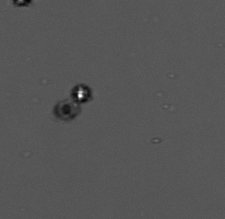Dead Cell: (53, 99, 80, 121)
Living Cell: (71, 83, 91, 103)
